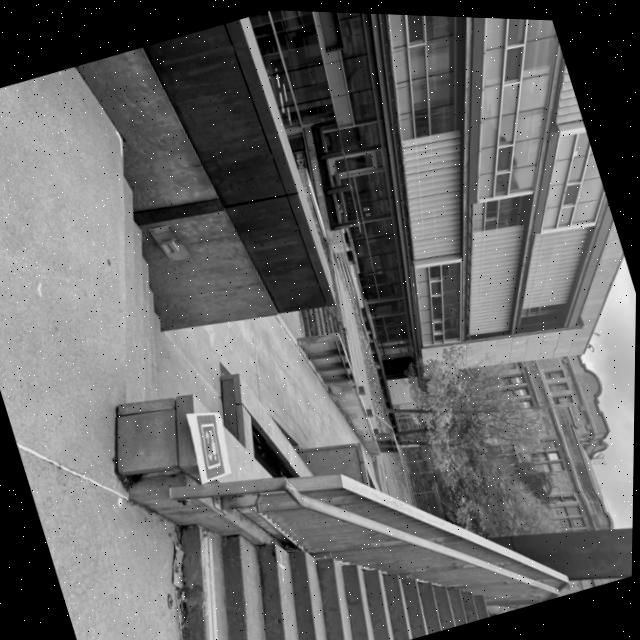elevator: (196, 415, 224, 478)
